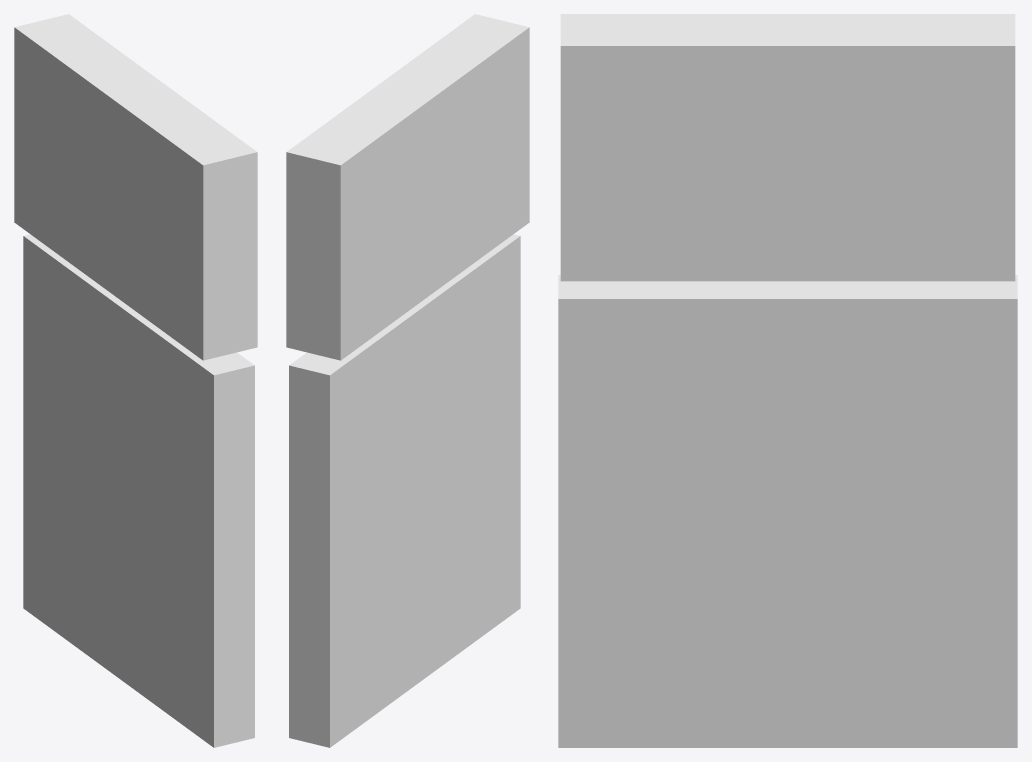
File: kitchen-fridgeGasket.obj
The picture shows the model from 3 angles, left to right: view 1: azimuth 30°, elevation 25°; view 2: azimuth 150°, elevation 25°; view 3: azimuth 270°, elevation 25°; orthographic projection. The views are drawn at different scales.
Visible parts, largest first — view 1: fridge_Cube.017; view 2: fridge_Cube.017; view 3: fridge_Cube.017.
Part boxes in pixels (bbox=[...]): fridge_Cube.017: bbox=[14, 14, 257, 747]; fridge_Cube.017: bbox=[286, 14, 529, 747]; fridge_Cube.017: bbox=[558, 14, 1017, 747].
Bounding box in the file's own units: 0.411 × 4.22 × 2.49.
1 material, 1 textured.
